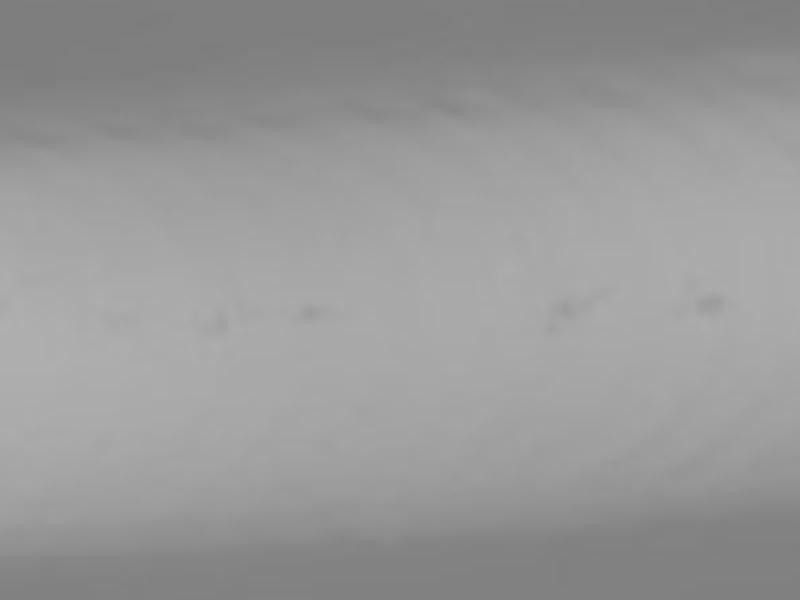defect: (192, 309, 226, 339), (693, 289, 723, 316), (295, 302, 325, 324), (548, 295, 575, 317), (542, 320, 561, 338)
